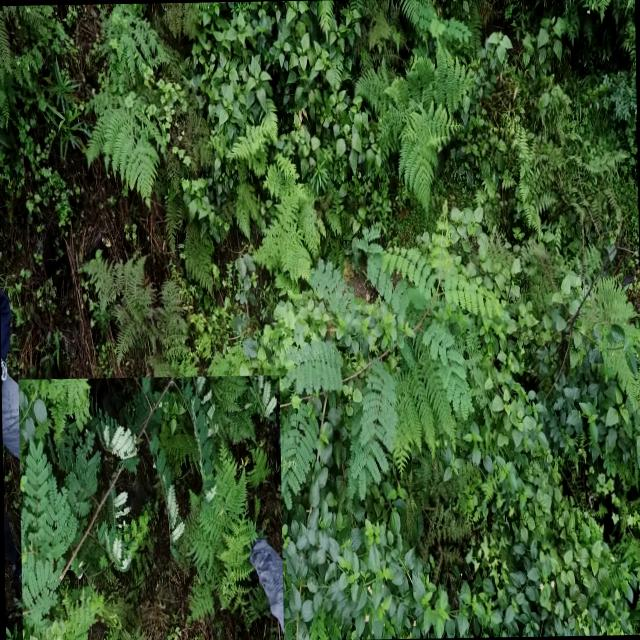Mysore-Thorn-Weed: (265, 197, 505, 493), (18, 375, 284, 640)
